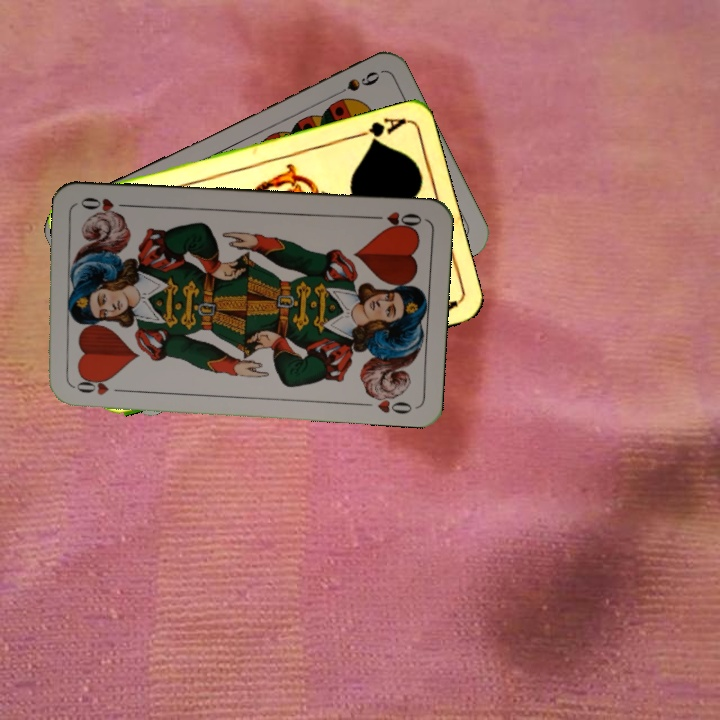GA: (350, 114, 408, 147)
HO: (367, 208, 424, 232), (67, 372, 115, 398)
S9: (327, 67, 382, 101)
